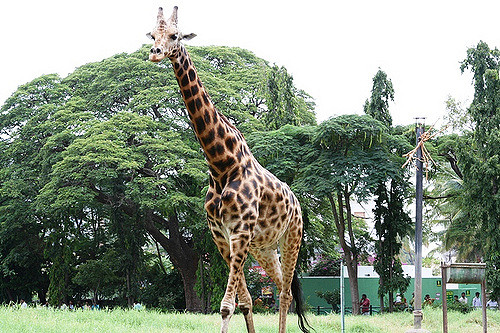giraffe: (138, 2, 324, 325)
